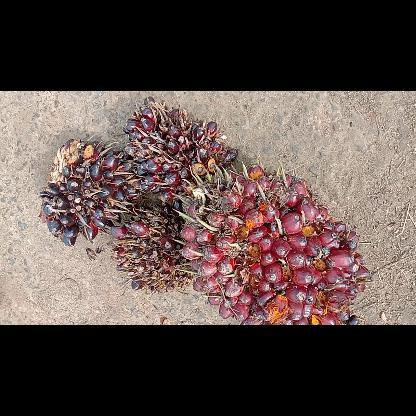TBS abnormal: (124, 96, 238, 206), (41, 138, 139, 242), (110, 202, 193, 290)
TBS masak: (183, 160, 370, 324)
